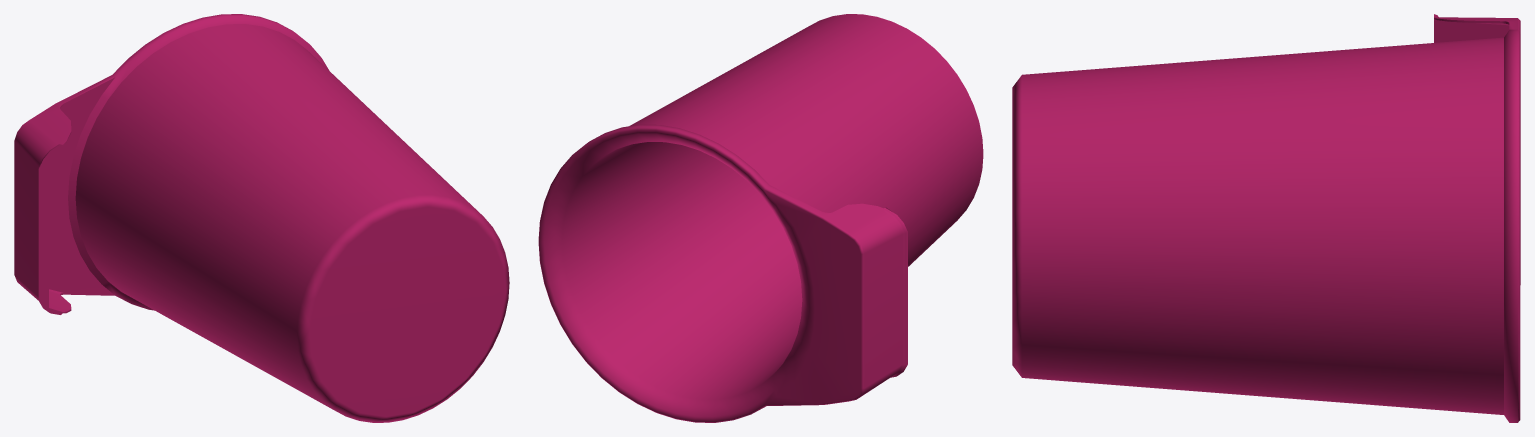
File: SM_Dishes_12.fbx
The picture shows the model from 3 angles, left to right: view 1: azimuth 30°, elevation 25°; view 2: azimuth 150°, elevation 25°; view 3: azimuth 270°, elevation 25°; orthographic projection. The views are drawn at different scales.
Visible parts, largest first — view 1: SM_Dishes_12; view 2: SM_Dishes_12; view 3: SM_Dishes_12.
Boxes of the visible parts, bbox=[...] form: SM_Dishes_12: bbox=[14, 14, 509, 422]; SM_Dishes_12: bbox=[538, 14, 983, 422]; SM_Dishes_12: bbox=[1012, 14, 1520, 422].
Bounding box in the file's own units: 28.08 × 23.08 × 29.85.
